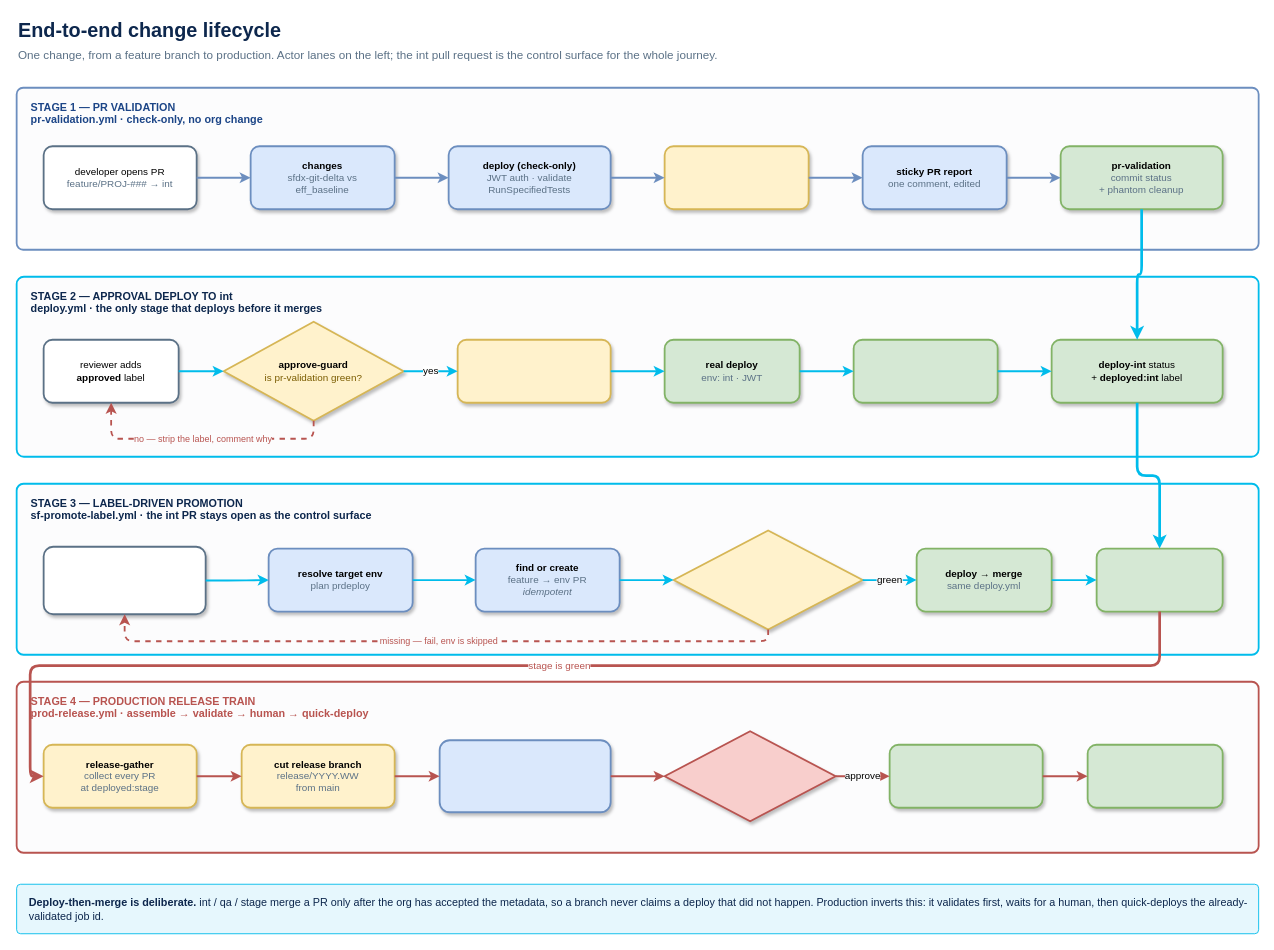
Some shapes in this 1274 by 950 pixel diagram are drawn without their labels. The centre of each missing label's shape, as x and y in pixels:
"3 fatal guards merge-conflict ordering · validation" goes at (534,372).
"coverage gate ≥ 85% — skipped when no Apex" goes at (737,178).
"deployed:<env> stamped on the int PR" goes at (1160,581).
"finalise tag · merge to main sync env branches" goes at (1155,777).
"human approval env: prod reviewers" goes at (751,777).
"merge PR only after the org actually took it" goes at (926,372).
"ordering guard previous env's deploy-<env> status?" goes at (768,581).
"quick-deploy replays the validated job id — no re-test" goes at (966,777).
"release manager adds deploy:qa / deploy:stage to the int PR" goes at (125,581).
"validate env: prod-validate check-only, unattended → keeps the job id" goes at (525,777).
